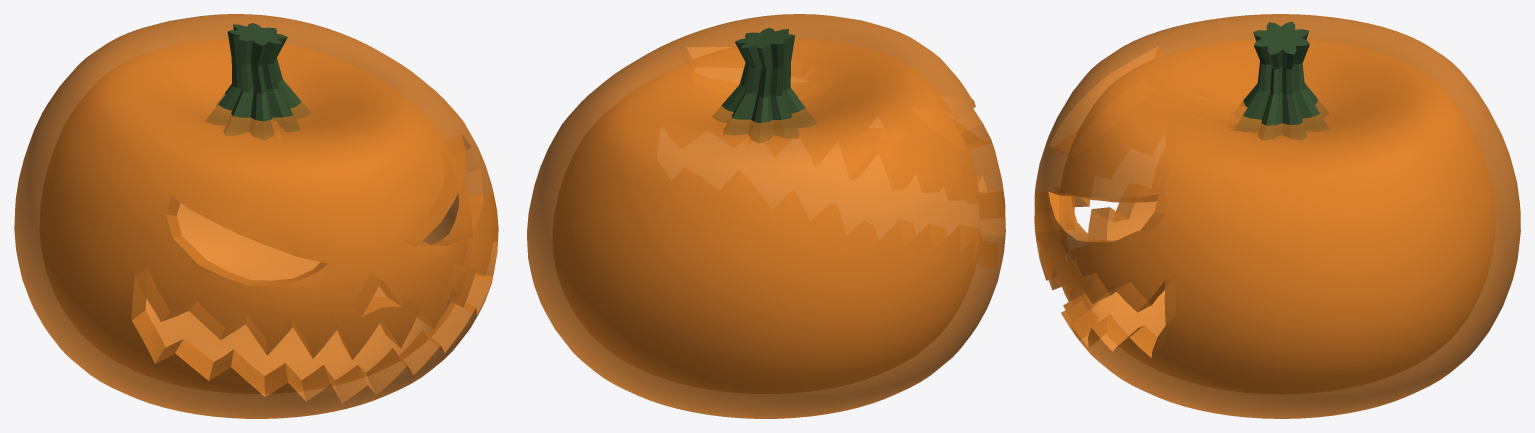
Rendered from pumpkin.glb.
The picture shows the model from 3 angles, left to right: view 1: azimuth 30°, elevation 25°; view 2: azimuth 150°, elevation 25°; view 3: azimuth 270°, elevation 25°; orthographic projection.
Parts seen in each view (by area): view 1: Sphere, Cylinder; view 2: Sphere, Cylinder; view 3: Sphere, Cylinder.
Part boxes in pixels (x1,y1,x2,y2): Sphere: (14, 14, 498, 418); Cylinder: (205, 23, 310, 139); Sphere: (527, 14, 1005, 418); Cylinder: (712, 28, 817, 143); Sphere: (1034, 14, 1520, 418); Cylinder: (1234, 21, 1329, 140).
Size of what is drawn, in the model's own units: 1.93 by 1.45 by 1.96.
